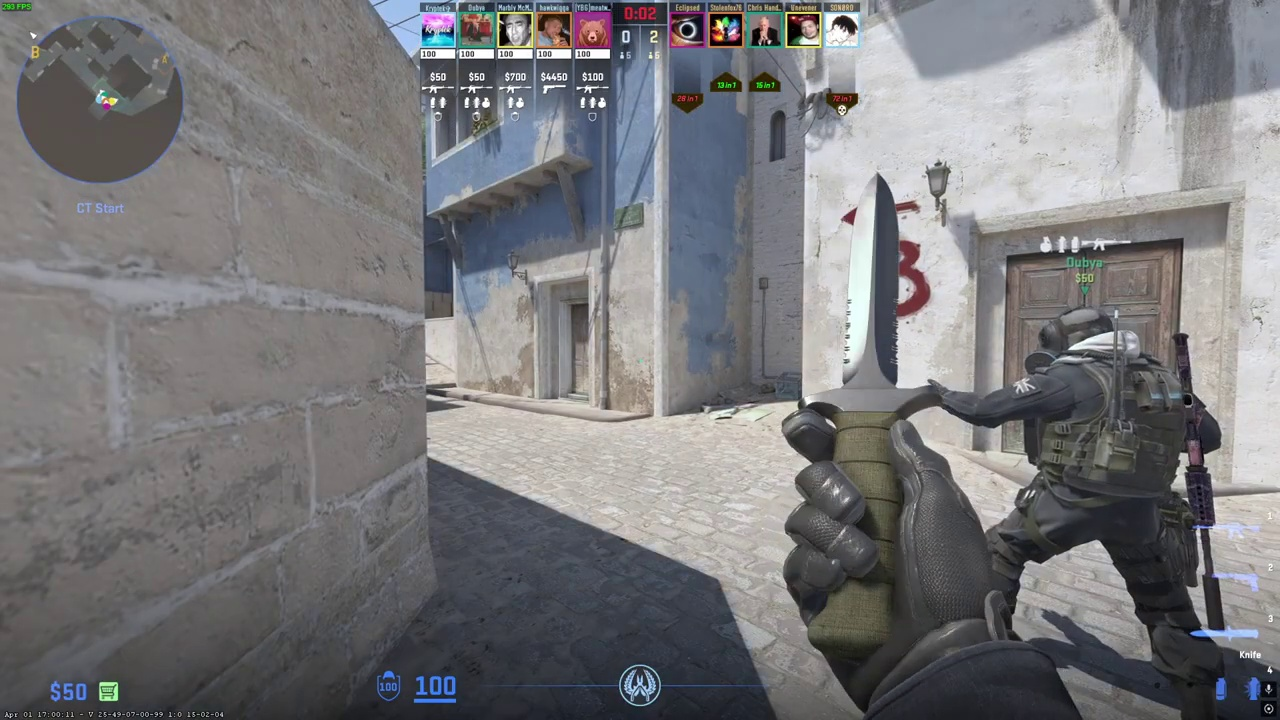CT: (986, 304, 1223, 719)
